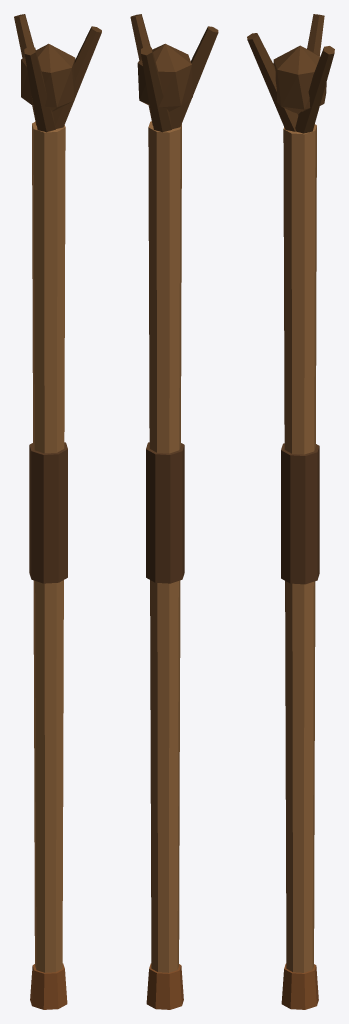
Rendered from held_staff.glb.
3 renders of one model, left to right at view 1: azimuth 30°, elevation 25°; view 2: azimuth 150°, elevation 25°; view 3: azimuth 330°, elevation 25°, orthographic.
Parts seen in each view (by area): view 1: held_staff; view 2: held_staff; view 3: held_staff.
Boxes of the visible parts, bbox=[...] form: held_staff: bbox=[14, 14, 101, 1009]; held_staff: bbox=[130, 14, 218, 1009]; held_staff: bbox=[247, 14, 334, 1009].
Bounding box in the file's own units: 0.1477 × 1.66 × 0.1361.
